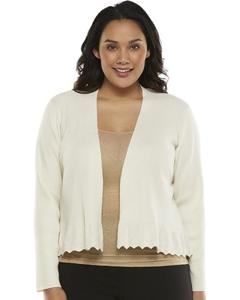S_cardigan sweater: (27, 90, 208, 300)
